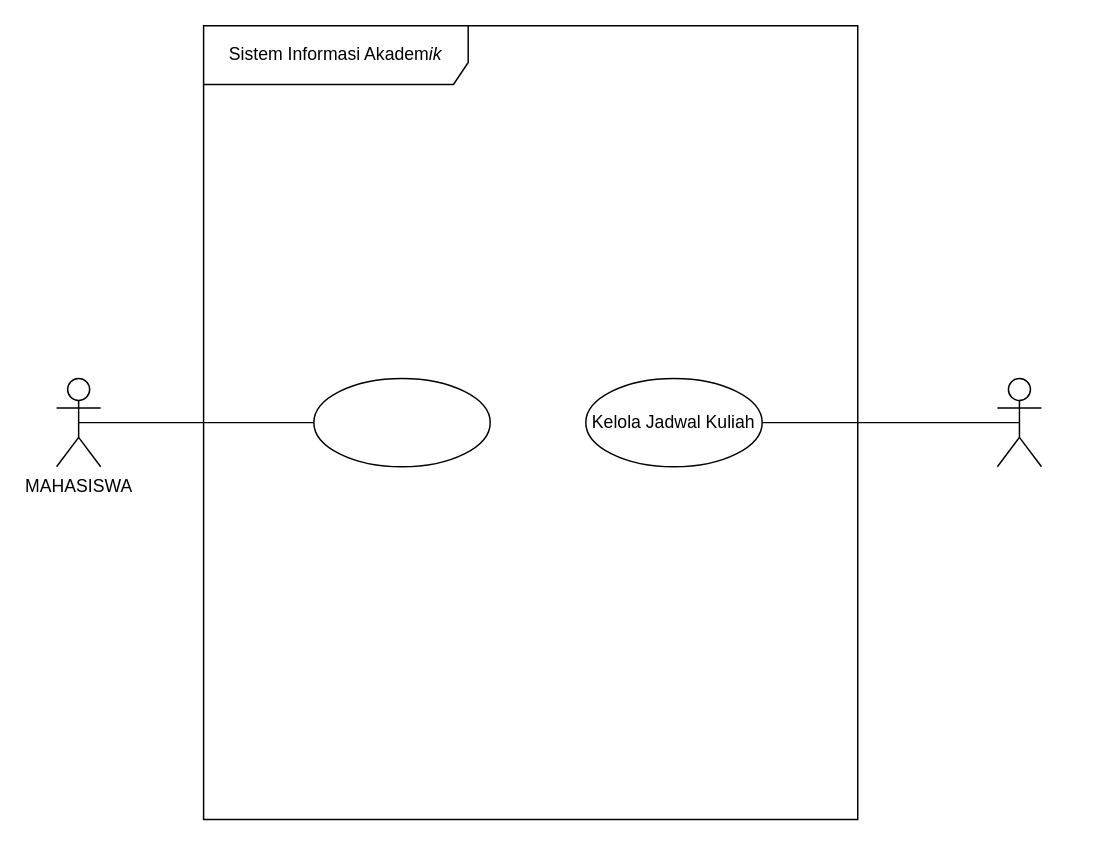
Some shapes in this 1110 by 845 pixel diagram are drawn without their labels. Here are the shapes that lost their labels. From the top down, the centre of each, then its label:
the point at 401,422: Lihat Jadwal kuliah
the point at 1018,422: Admin Akademik
